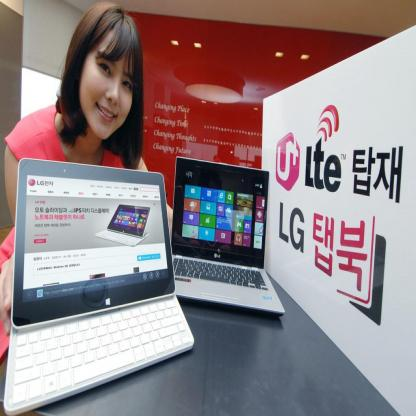board: (4, 170, 193, 414), (172, 159, 286, 314)
